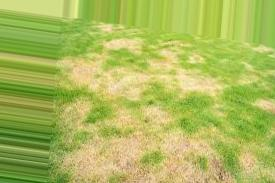patch: (72, 132, 202, 167), (152, 57, 210, 92), (111, 73, 147, 102), (72, 62, 100, 90), (107, 40, 143, 56)
